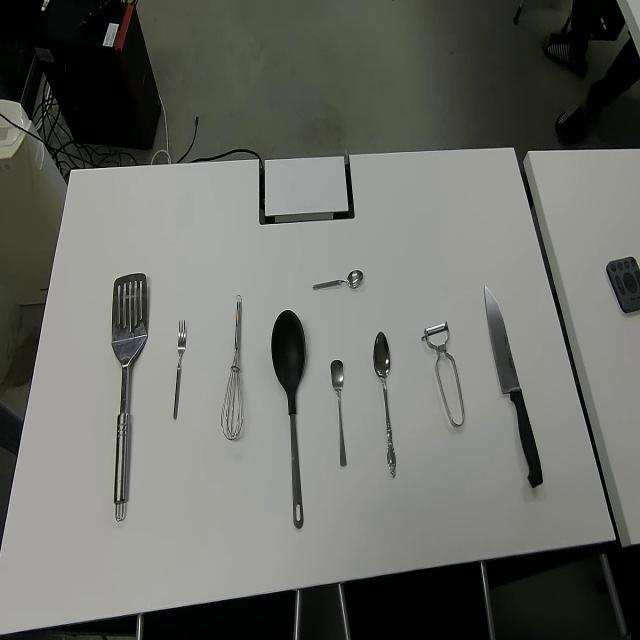Desert-Spoon: (372, 329, 398, 478)
Dinner-Fork: (172, 316, 186, 422)
Kitchen-Knife: (483, 282, 544, 490)
Peeler: (420, 320, 466, 429)
Serving-Spoon: (110, 270, 149, 522), (270, 307, 306, 529)
Tea-Spoon: (329, 357, 348, 468), (312, 265, 364, 292)
Whisk: (220, 290, 244, 440)
